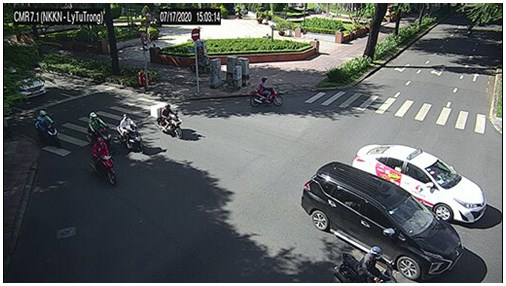xe_hoi: (301, 162, 462, 280), (18, 76, 45, 97)
xe_may: (335, 244, 397, 283), (90, 137, 118, 186), (150, 103, 183, 140), (116, 114, 145, 156), (34, 110, 62, 150), (250, 77, 284, 107), (86, 111, 112, 149)
xe_taxi: (351, 144, 486, 224)
